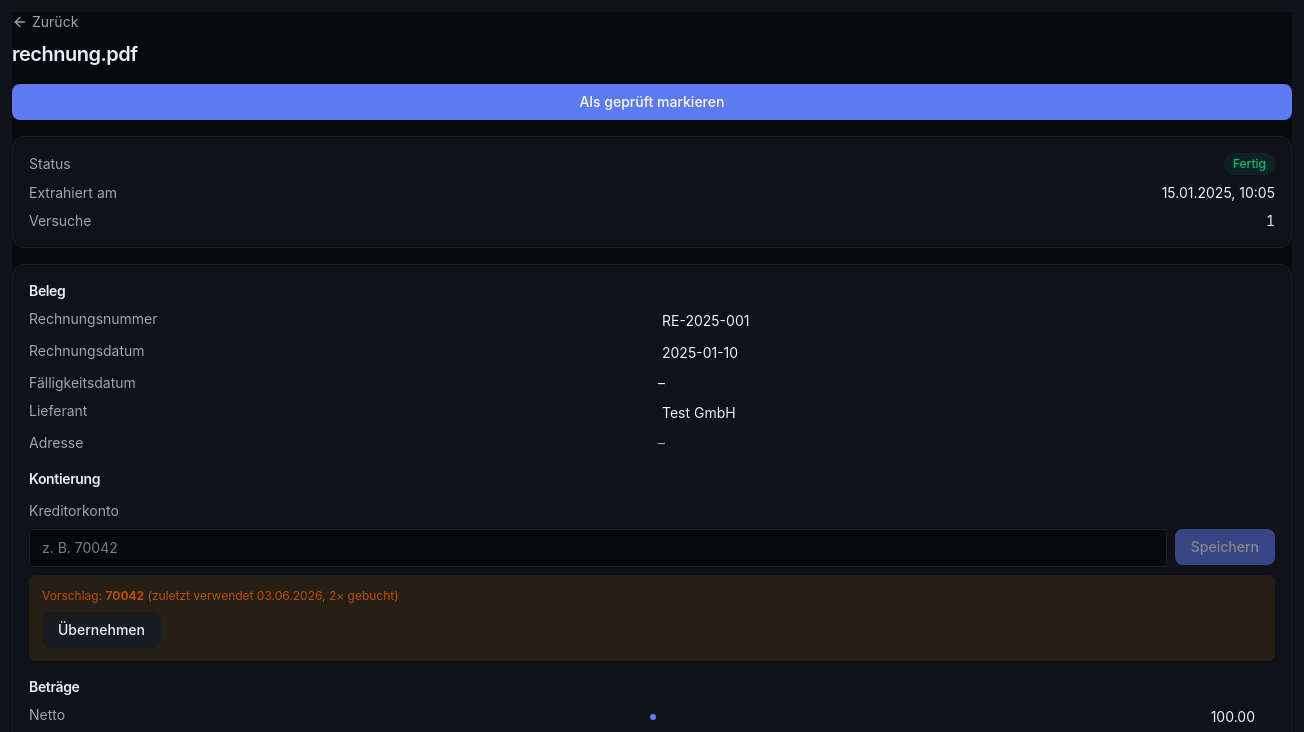
Test: ExtractedFieldsPanel › applies suggestion when Übernehmen clicked
Click the button "Übernehmen". click: (102, 630)
box: x1=42 y1=612 x2=161 y2=648
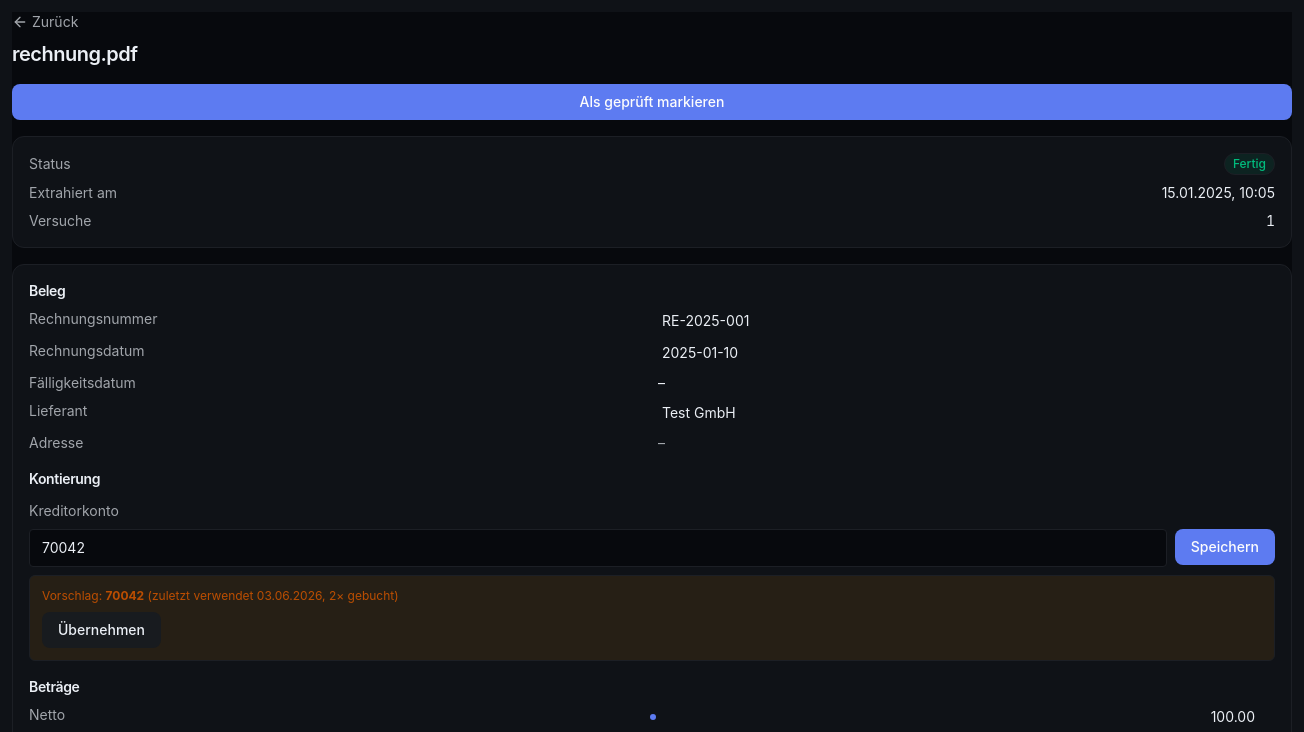
Result: the number field labelled "Kreditorkonto" holds "70042" at x1=29 y1=529 x2=1167 y2=567
